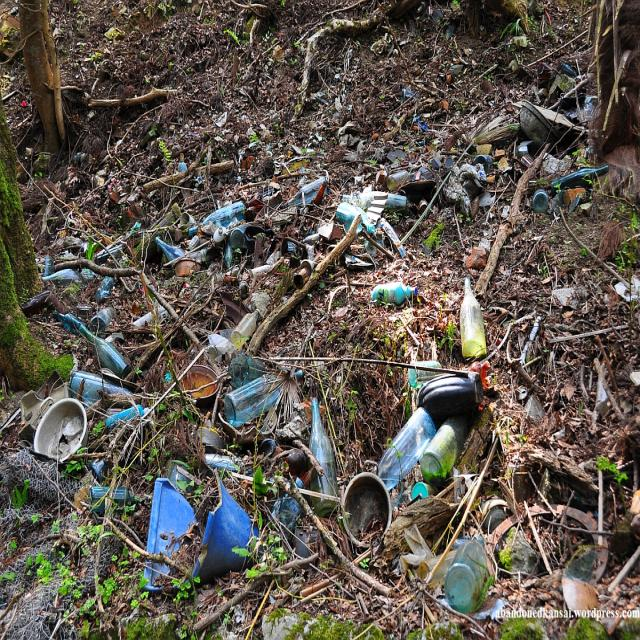garbage: (17, 107, 636, 597)
